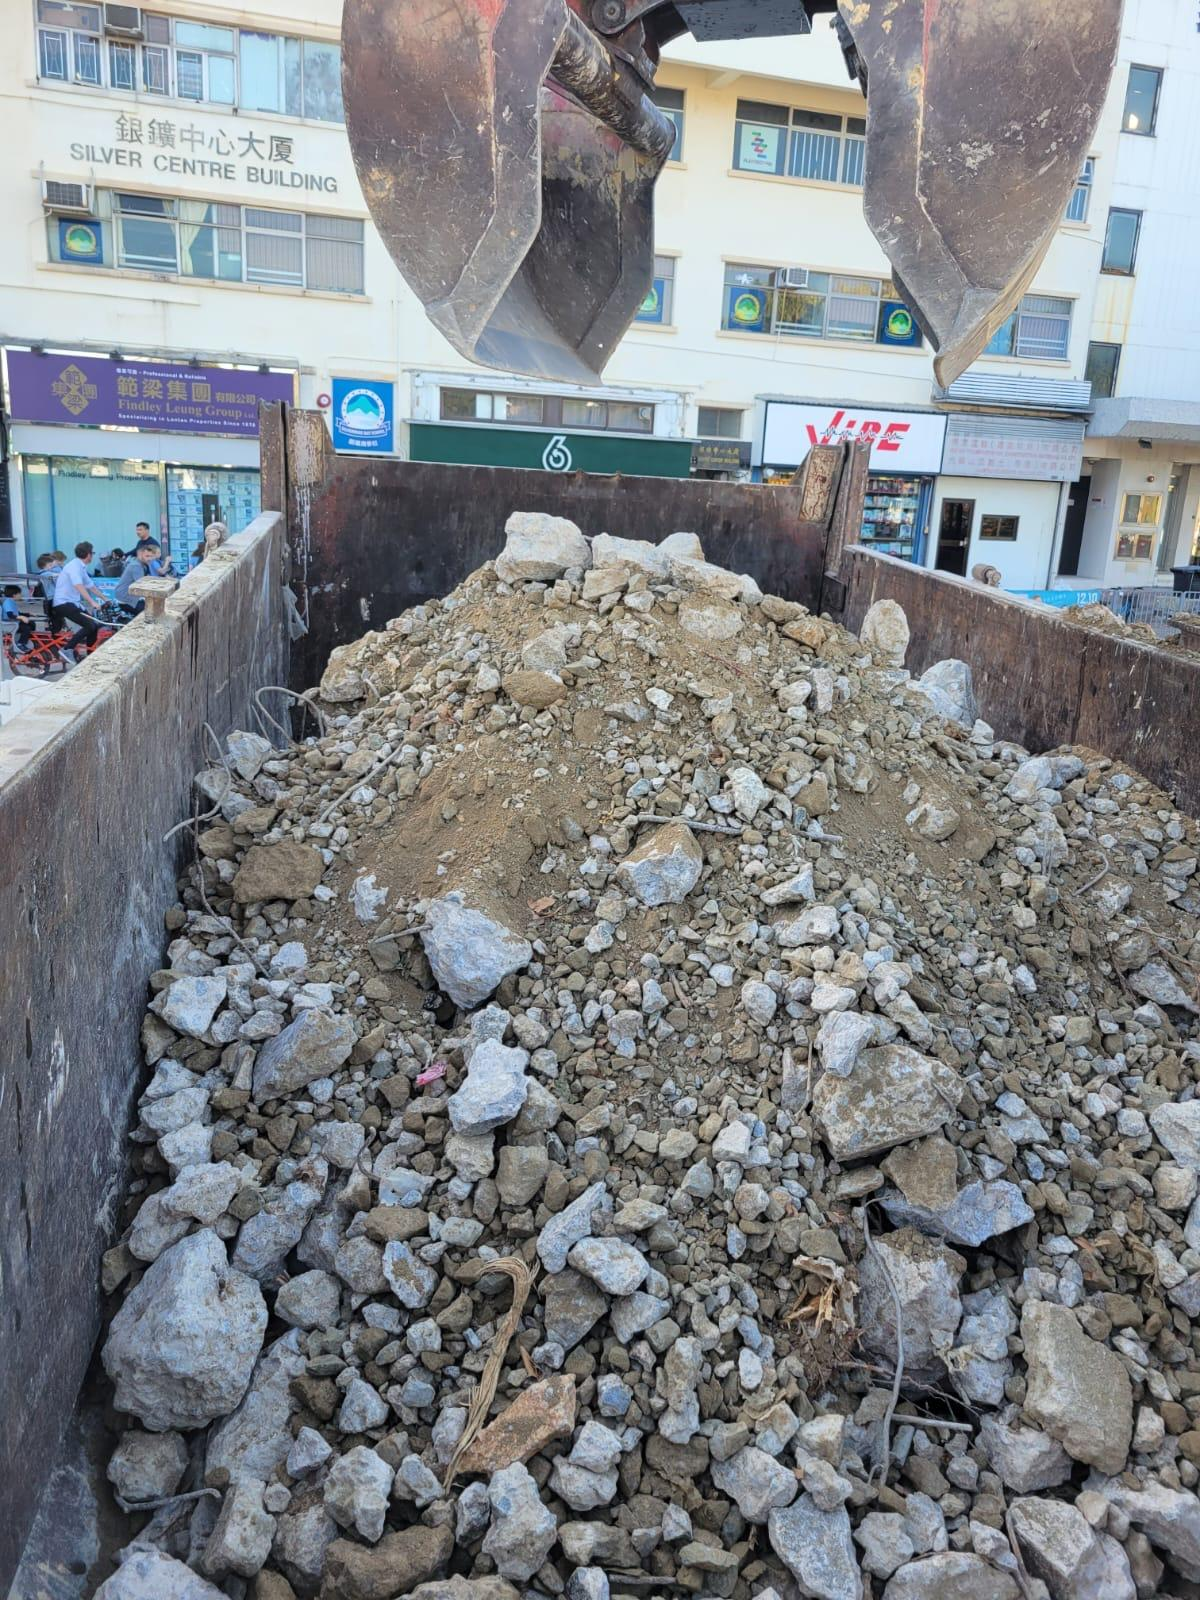dirt: (13, 510, 1197, 1597)
stone: (100, 1225, 268, 1430), (1017, 1296, 1134, 1473), (809, 1041, 966, 1162), (418, 894, 532, 1008), (446, 1037, 529, 1134), (615, 820, 705, 906), (493, 509, 590, 581)
